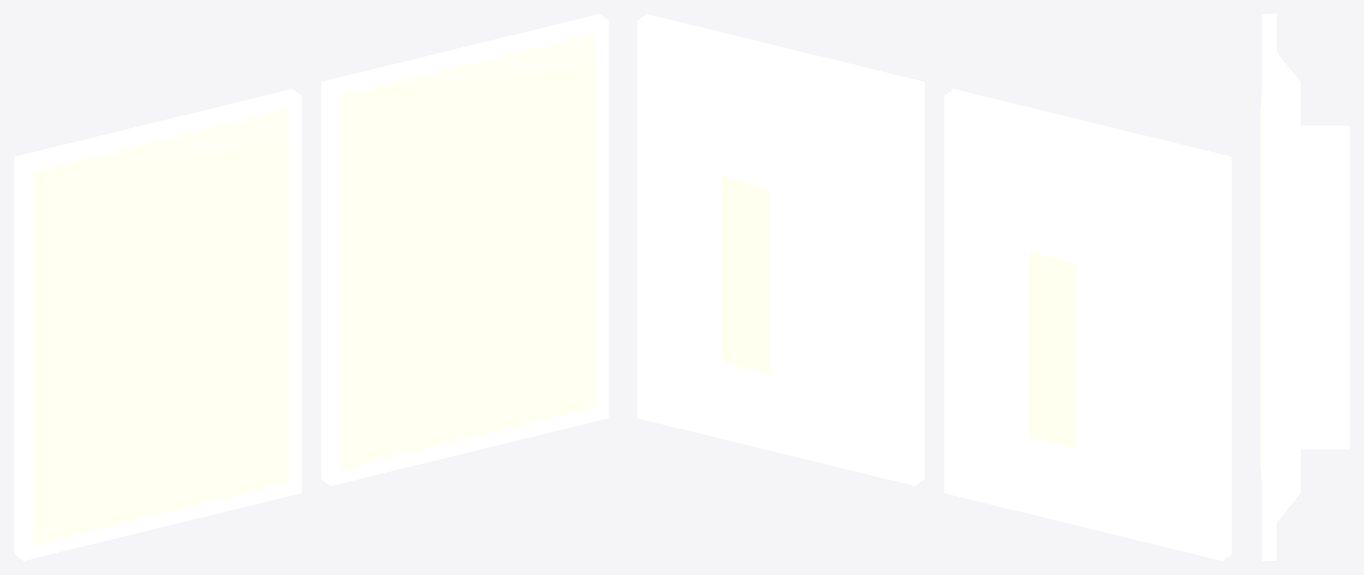
The model's file is Office_Assets_Monitoring_Screens_Var_3.glb.
The picture shows the model from 3 angles, left to right: view 1: azimuth 30°, elevation 25°; view 2: azimuth 150°, elevation 25°; view 3: azimuth 270°, elevation 25°; orthographic projection. The views are drawn at different scales.
Parts seen in each view (by area): view 1: Monitoring_Screens_3; view 2: Monitoring_Screens_3; view 3: Monitoring_Screens_3.
Part boxes in pixels (box(x1,y1,x2,y2)): Monitoring_Screens_3: box(14, 14, 608, 560); Monitoring_Screens_3: box(637, 14, 1231, 560); Monitoring_Screens_3: box(1260, 14, 1349, 560).
Size of the model in its own units: 0.9183 by 0.5962 by 0.1513.
